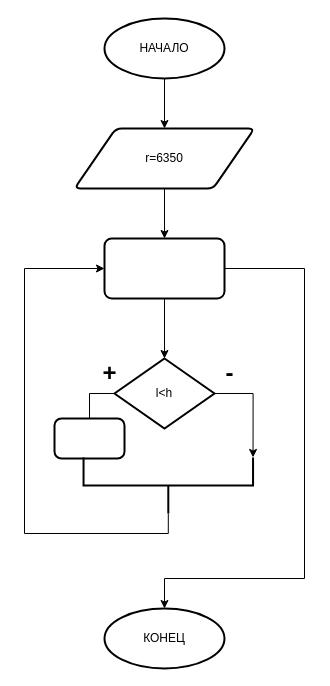
Image size: 330x686. Some labels were removed from this diagram. The box of each missing label's shape, as (x1, y1, x2, y2) in pixels:
h:=0, l:=0: (103, 237, 225, 299)
h:=l: (53, 417, 125, 459)
